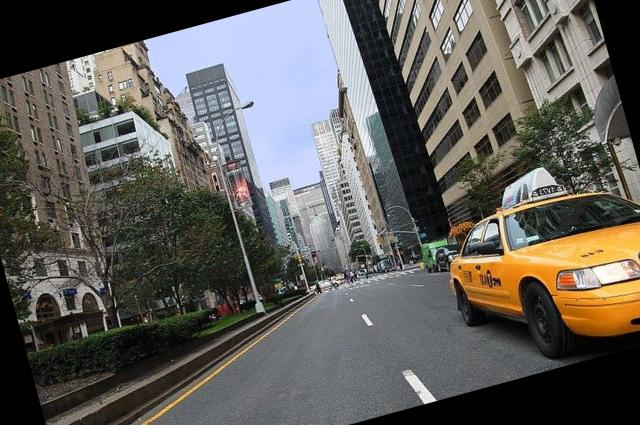taxi: (450, 187, 640, 351)
